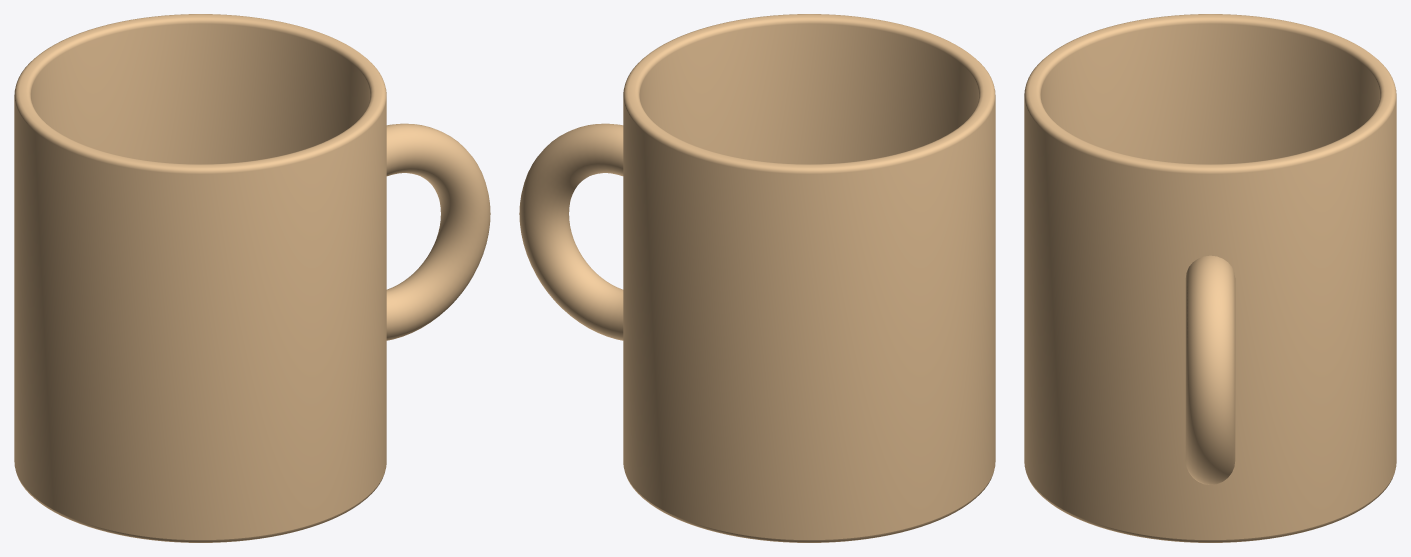
The picture shows the model from 3 angles, left to right: view 1: azimuth 30°, elevation 25°; view 2: azimuth 150°, elevation 25°; view 3: azimuth 270°, elevation 25°; orthographic projection.
Visible parts, largest first — view 1: Mug, Handle; view 2: Mug, Handle; view 3: Mug, Handle.
Boxes of the visible parts, x1=… form: Mug: x1=14, y1=14, x2=386, y2=542; Handle: x1=386, y1=123, x2=490, y2=340; Mug: x1=623, y1=14, x2=995, y2=542; Handle: x1=519, y1=123, x2=623, y2=340; Mug: x1=1024, y1=14, x2=1396, y2=542; Handle: x1=1185, y1=255, x2=1235, y2=484.
Size of the model in its own units: 125 by 100 by 90.
